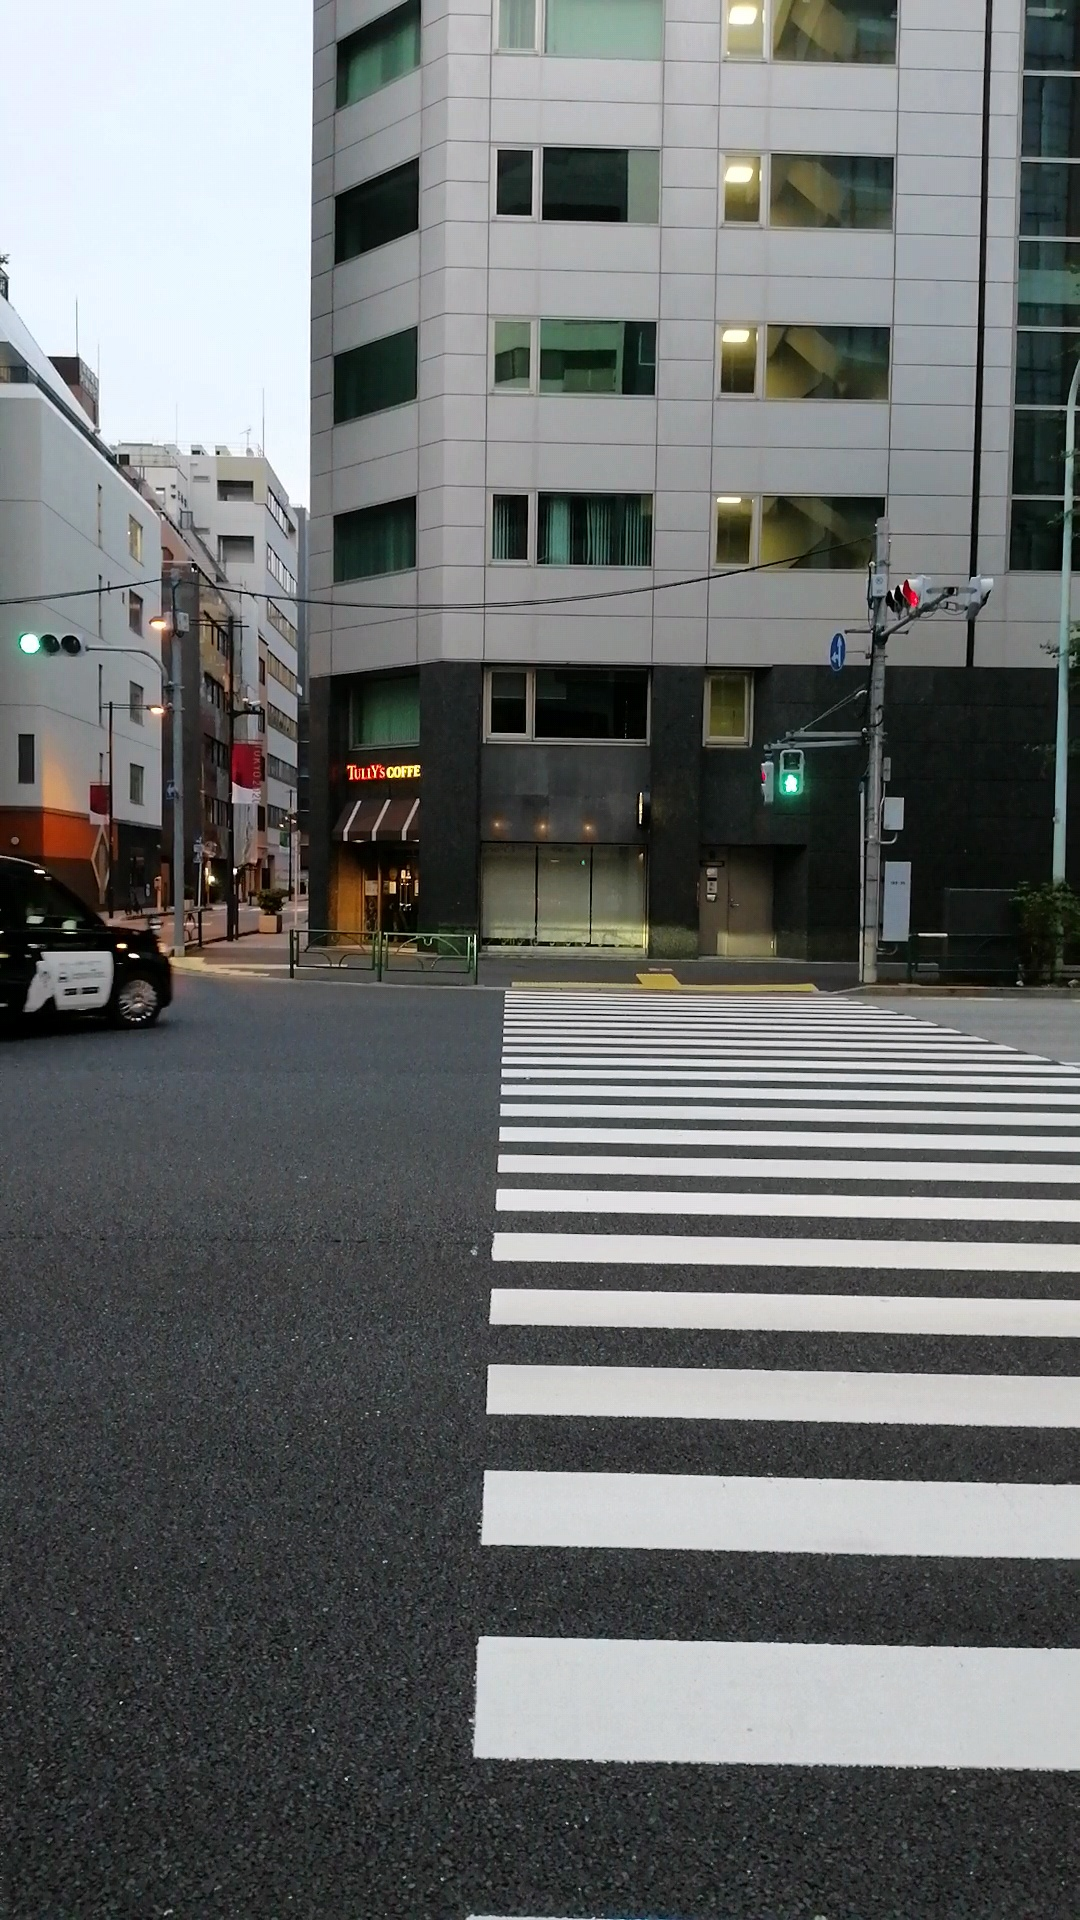green: (775, 746, 804, 796)
